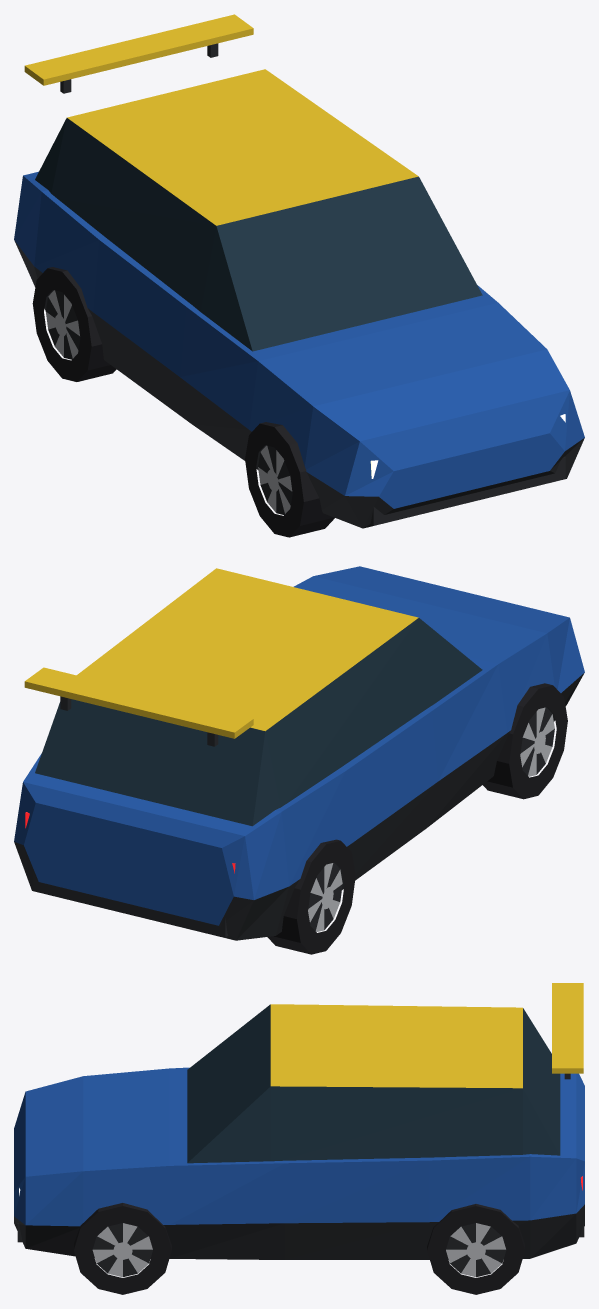
The model's file is tumble-rally.gltf.
The picture shows the model from 3 angles, top to bottom: view 1: azimuth 30°, elevation 25°; view 2: azimuth 150°, elevation 25°; view 3: azimuth 270°, elevation 25°; orthographic projection. The views are drawn at different scales.
Visible parts, largest first — view 1: body, wheel_fr, wheel_rr; view 2: body, wheel_rr, wheel_fr; view 3: body, wheel_fl, wheel_rl.
Part boxes in pixels (left/top/right/bottom): body: left=14, top=14, right=584, bottom=528; wheel_fr: left=245, top=422, right=334, bottom=537; wheel_rr: left=32, top=267, right=116, bottom=381; body: left=14, top=566, right=584, bottom=940; wheel_rr: left=267, top=839, right=355, bottom=954; wheel_fr: left=483, top=683, right=567, bottom=799; body: left=14, top=983, right=584, bottom=1259; wheel_fl: left=74, top=1203, right=171, bottom=1294; wheel_rl: left=427, top=1204, right=524, bottom=1294.
Bounding box in the file's own units: 1.78 × 1.65 × 3.96.
